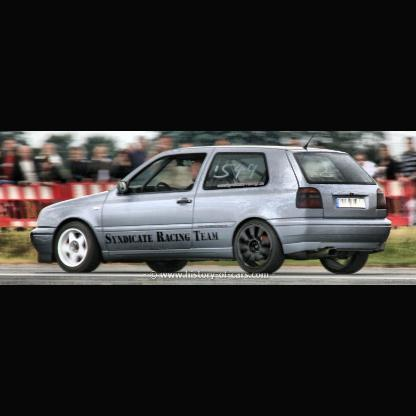Volkswagen Golf Hatchback 1991: (31, 133, 393, 275)
